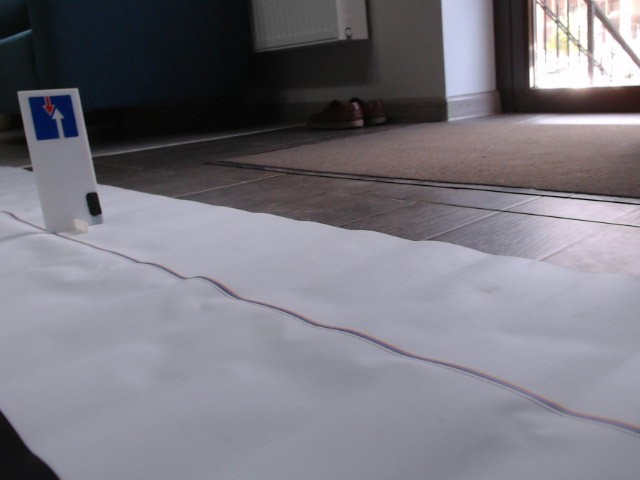priority_movement: (27, 94, 80, 141)
